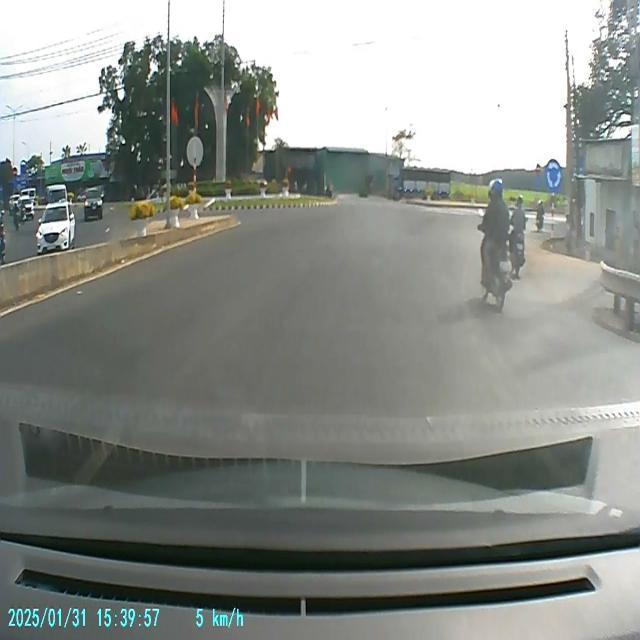303-noi-giao-nhau-chay-theo-vong-xuyen: (546, 157, 562, 190)
